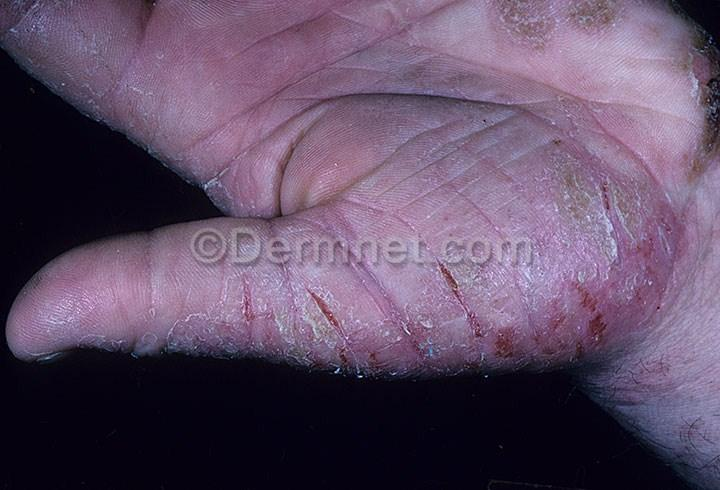Eczema: (154, 0, 299, 128), (302, 248, 447, 372), (588, 155, 704, 310), (301, 0, 447, 114), (457, 252, 588, 364), (151, 247, 298, 345), (209, 118, 342, 221), (39, 0, 144, 95), (525, 0, 636, 69)
